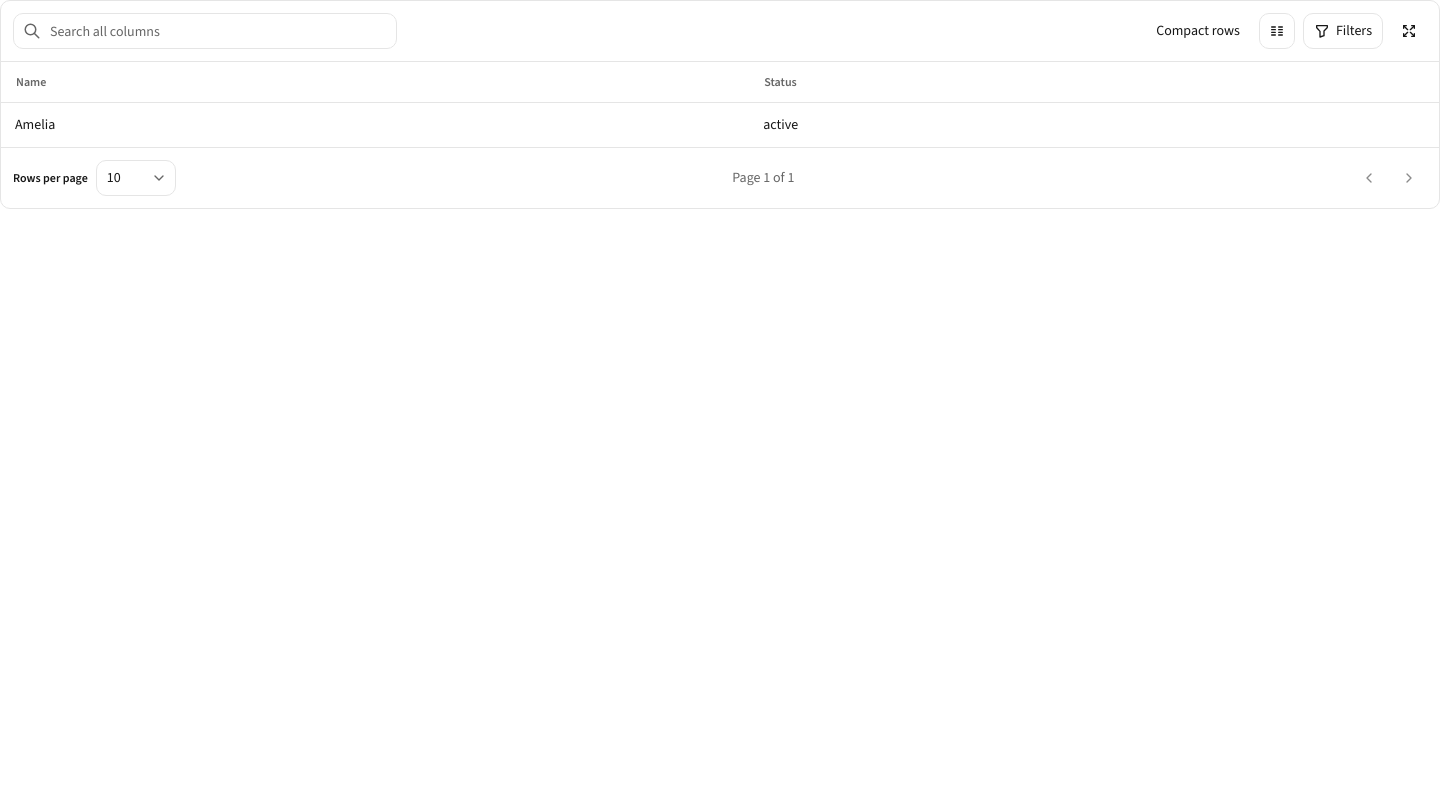
Scenario: DataTable › can clear a column-filter-only empty state
Click the button "Filters" at (1343, 31), box [1303,13,1383,49]
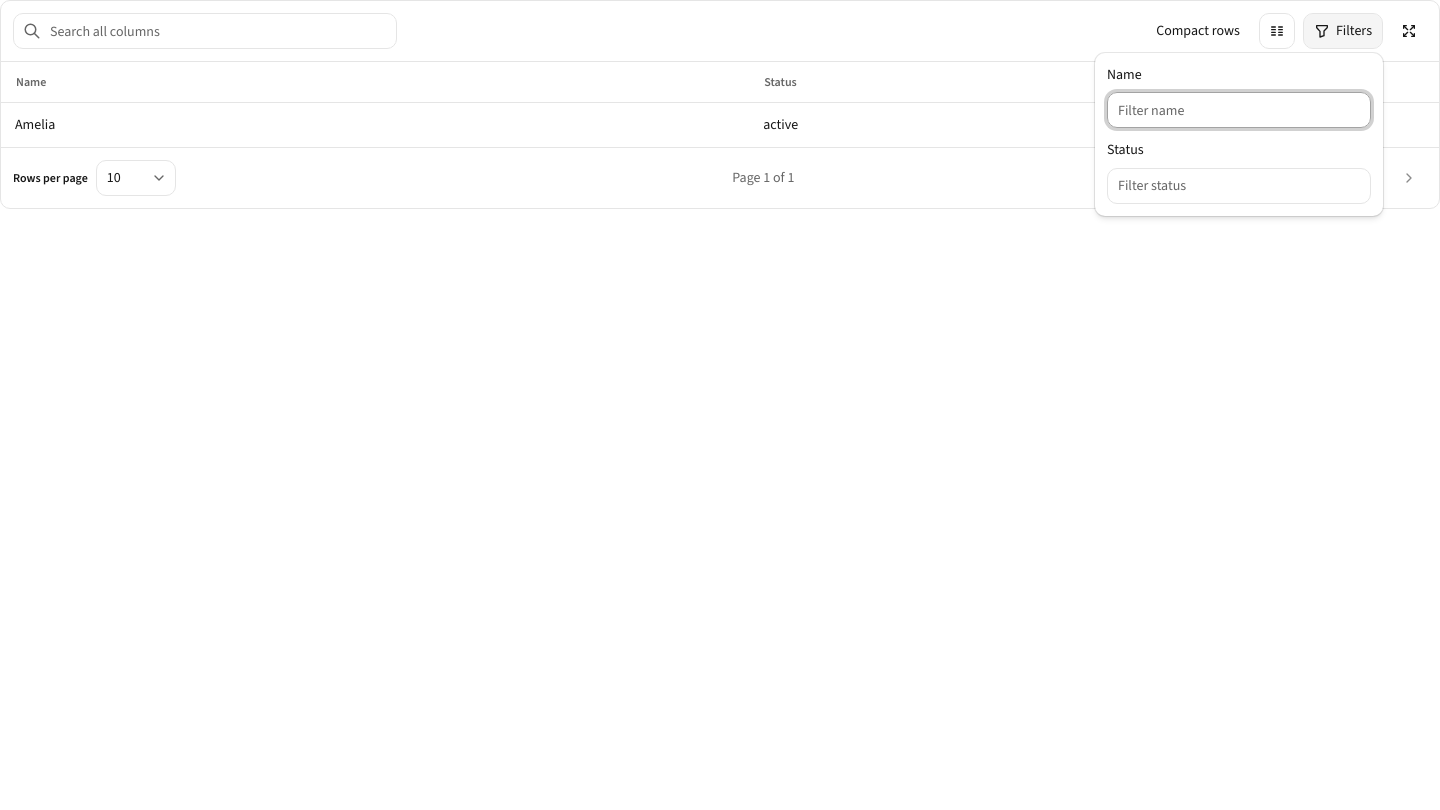
Type "completed" into the field with placeholder "Filter status" at (1239, 186), box [1107,168,1371,204]
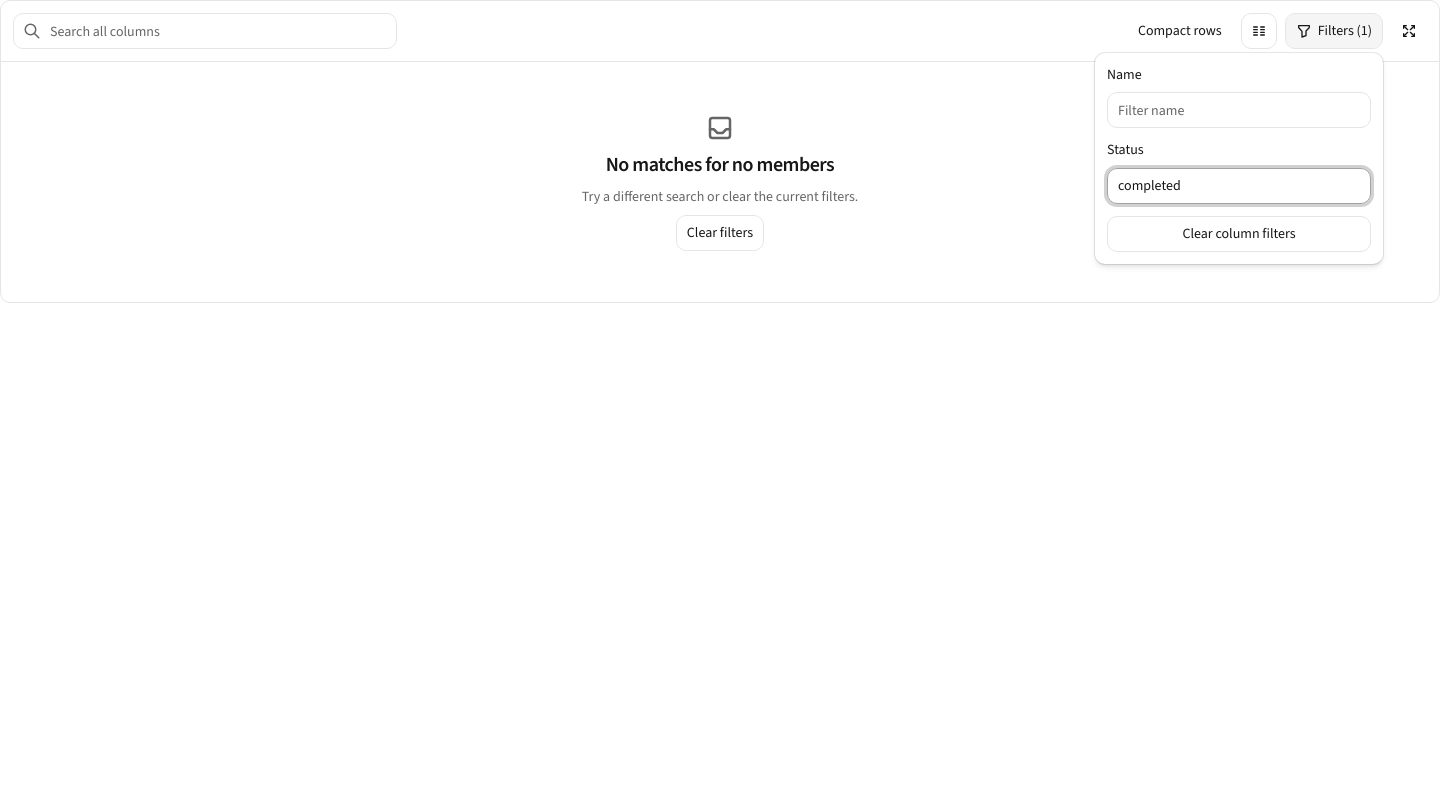
Now the text "Try a different search or clear the current filters." is shown, box [582,187,858,207]
Click the button "Clear filters" at (720, 233), box [676,215,764,251]
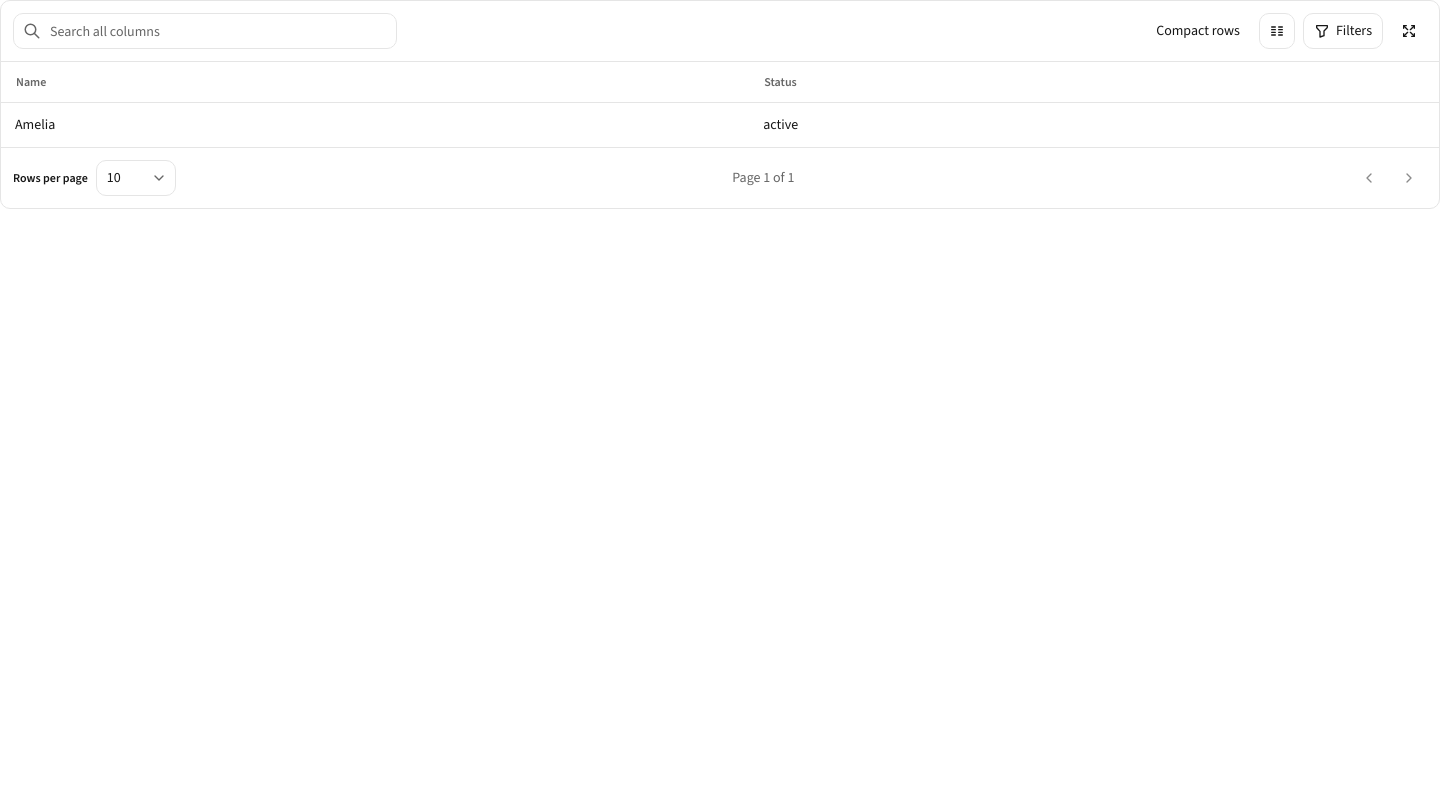
Now the text "Amelia" is shown, box [1,102,749,146]
